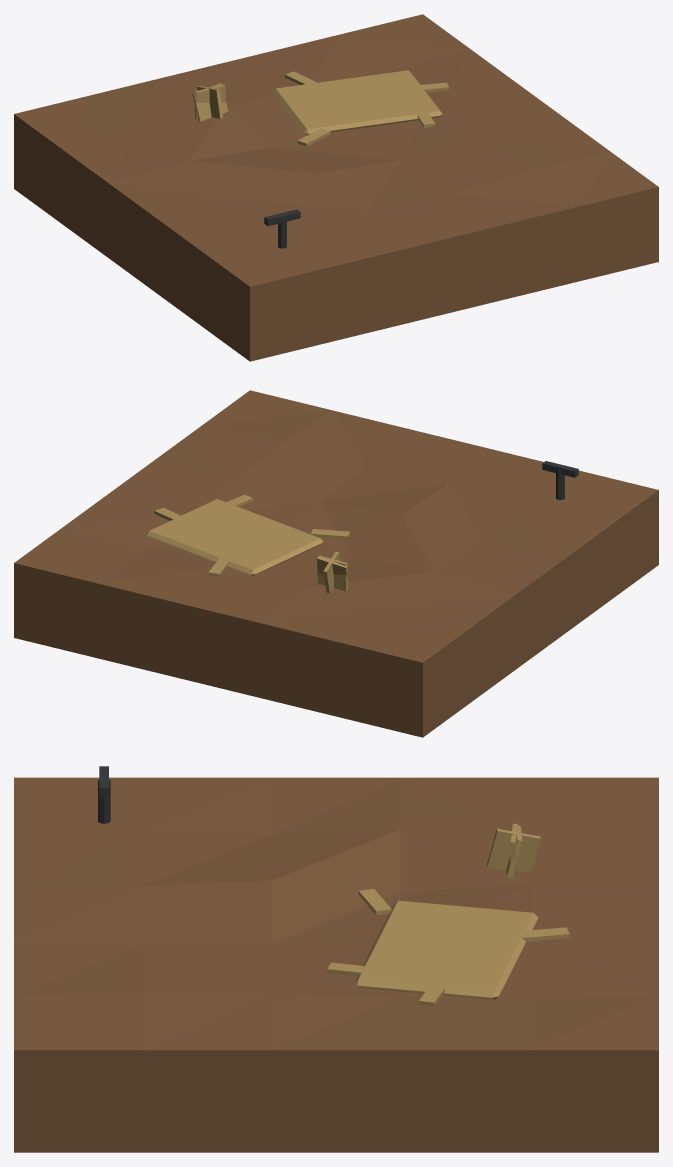
File: SM_Terrain_Tavern_02_Flat.fbx
3 renders of one model, top to bottom at view 1: azimuth 30°, elevation 25°; view 2: azimuth 150°, elevation 25°; view 3: azimuth 270°, elevation 25°, orthographic. The views are drawn at different scales.
Parts seen in each view (by area): view 1: SM_Terrain_Tavern_02_Flat_Deck, SM_Terrain_Tavern_02_Flat_StrawMat; view 2: SM_Terrain_Tavern_02_Flat_Deck, SM_Terrain_Tavern_02_Flat_StrawMat; view 3: SM_Terrain_Tavern_02_Flat_Deck, SM_Terrain_Tavern_02_Flat_StrawMat, SM_Terrain_Tavern_02_Flat_Hay01.
Boxes of the visible parts, left/top/right/bottom form: SM_Terrain_Tavern_02_Flat_Deck: left=14, top=14, right=658, bottom=361; SM_Terrain_Tavern_02_Flat_StrawMat: left=272, top=70, right=442, bottom=135; SM_Terrain_Tavern_02_Flat_Deck: left=14, top=390, right=658, bottom=737; SM_Terrain_Tavern_02_Flat_StrawMat: left=146, top=499, right=323, bottom=575; SM_Terrain_Tavern_02_Flat_Deck: left=14, top=777, right=658, bottom=1152; SM_Terrain_Tavern_02_Flat_StrawMat: left=354, top=900, right=538, bottom=999; SM_Terrain_Tavern_02_Flat_Hay01: left=487, top=828, right=540, bottom=871.
Size of the model in its own units: 2 by 0.5017 by 2.
